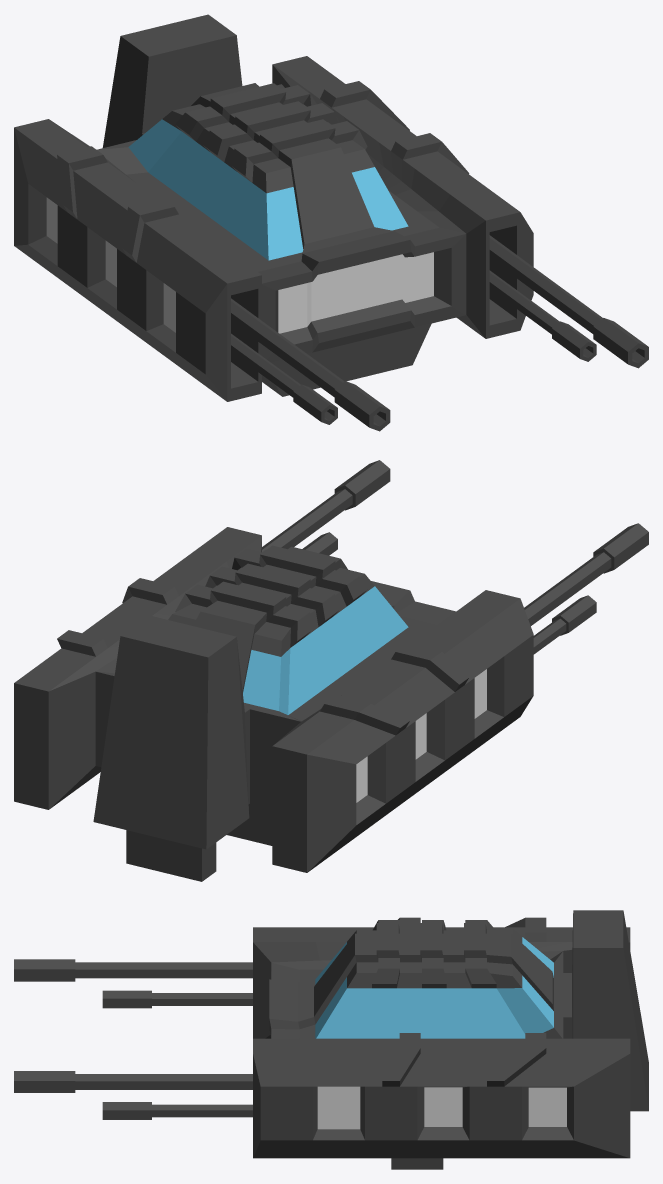
The model's file is TurretPistolMeshHead.fbx.
3 renders of one model, top to bottom at view 1: azimuth 30°, elevation 25°; view 2: azimuth 150°, elevation 25°; view 3: azimuth 270°, elevation 25°, orthographic. The views are drawn at different scales.
Parts seen in each view (by area): view 1: Cube.010; view 2: Cube.010; view 3: Cube.010.
Part boxes in pixels (box(x1,y1,x2,y2)): Cube.010: box(14, 14, 648, 431); Cube.010: box(14, 460, 648, 881); Cube.010: box(14, 910, 648, 1169).
Size of the model in its own units: 92.87 by 68.59 by 171.
